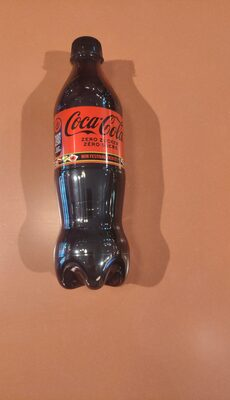Coca-Cola Zero 500ml: (11, 20, 218, 380)
